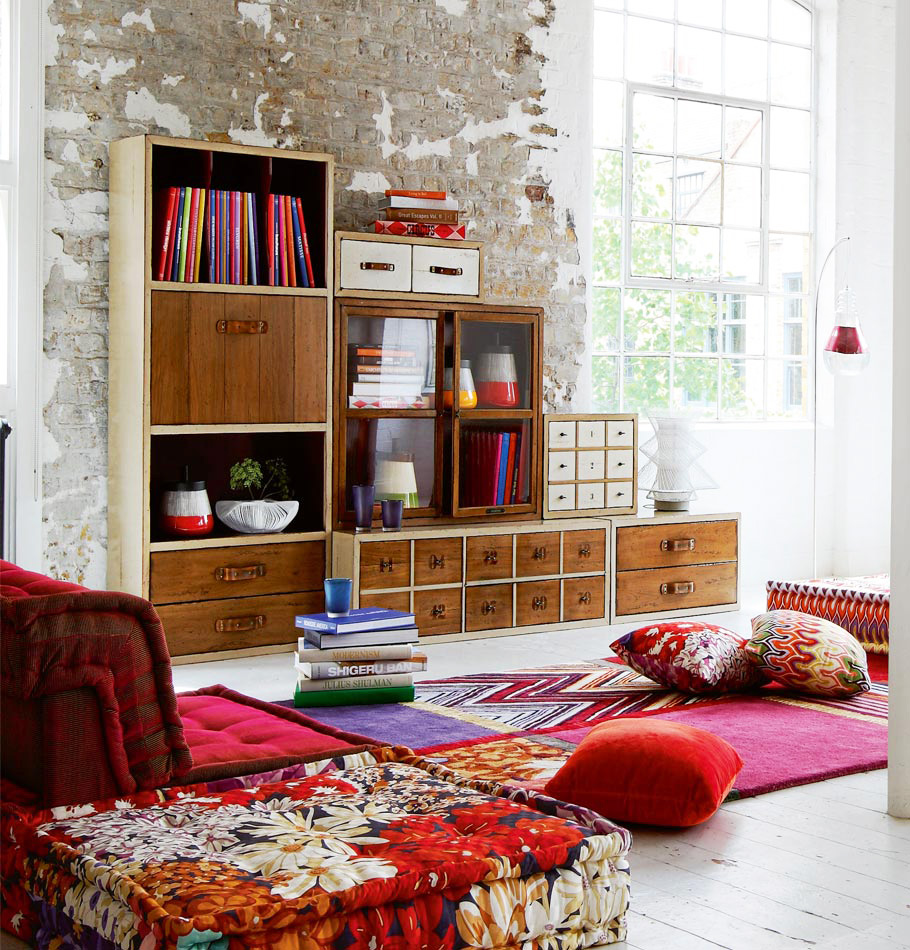biru: (325, 576, 351, 614)
merah: (1, 577, 305, 761), (560, 717, 746, 853)
